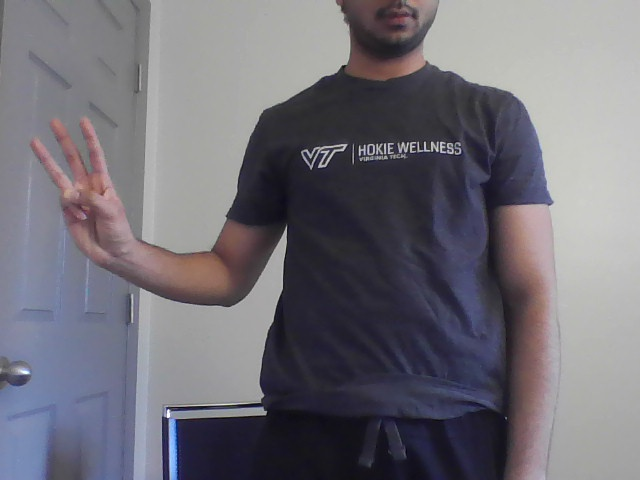three: (27, 115, 149, 258)
